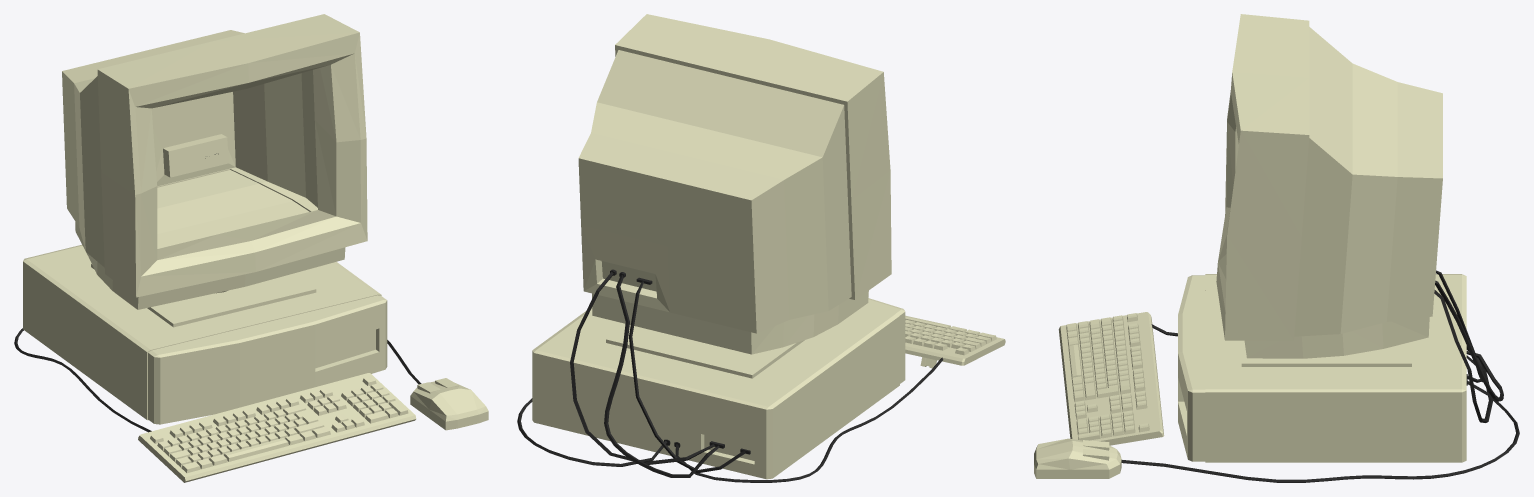
The model's file is screen.glb.
The picture shows the model from 3 angles, left to right: view 1: azimuth 30°, elevation 25°; view 2: azimuth 150°, elevation 25°; view 3: azimuth 270°, elevation 25°; orthographic projection. The views are drawn at different scales.
Parts seen in each view (by area): view 1: monitor_base, computer, keyboard, mouse, cables; view 2: monitor_base, computer, cables, keyboard; view 3: monitor_base, computer, keyboard, cables, mouse.
Part boxes in pixels (x1,y1,x2,y2): monitor_base: (62,14,367,327); computer: (23,244,387,424); keyboard: (138,373,416,482); mouse: (410,378,488,430); cables: (14,153,421,432); monitor_base: (578,14,891,378); computer: (532,298,905,479); cables: (517,269,943,482); keyboard: (905,315,1005,368); monitor_base: (1216,14,1442,366); computer: (1178,274,1466,462); keyboard: (1058,312,1164,445); cables: (1121,270,1519,482); mouse: (1034,438,1121,478).
Bounding box in the file's own units: 2.24 × 2.29 × 3.01.
